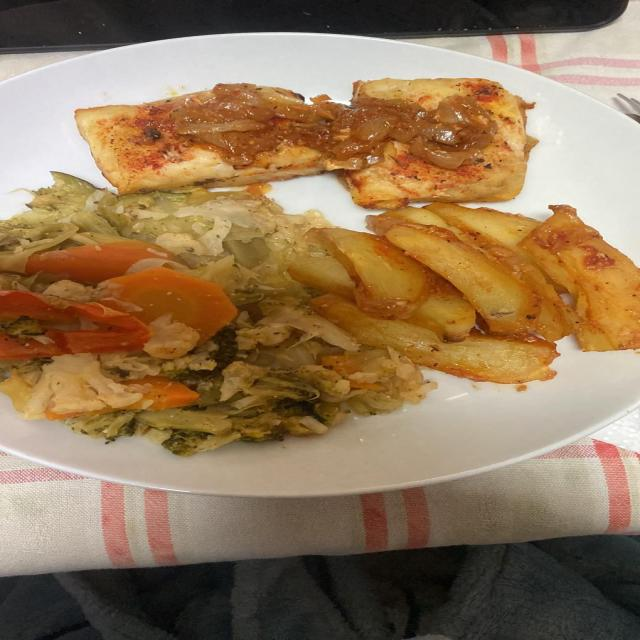baked potatoes: (289, 203, 639, 384)
plate: (0, 35, 639, 496)
salmon: (75, 78, 535, 209)
vegetables: (0, 172, 434, 455)
